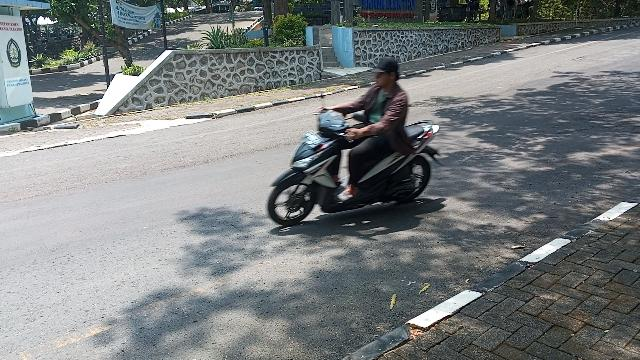motor: (269, 115, 446, 226)
non-helm: (369, 59, 401, 88)
